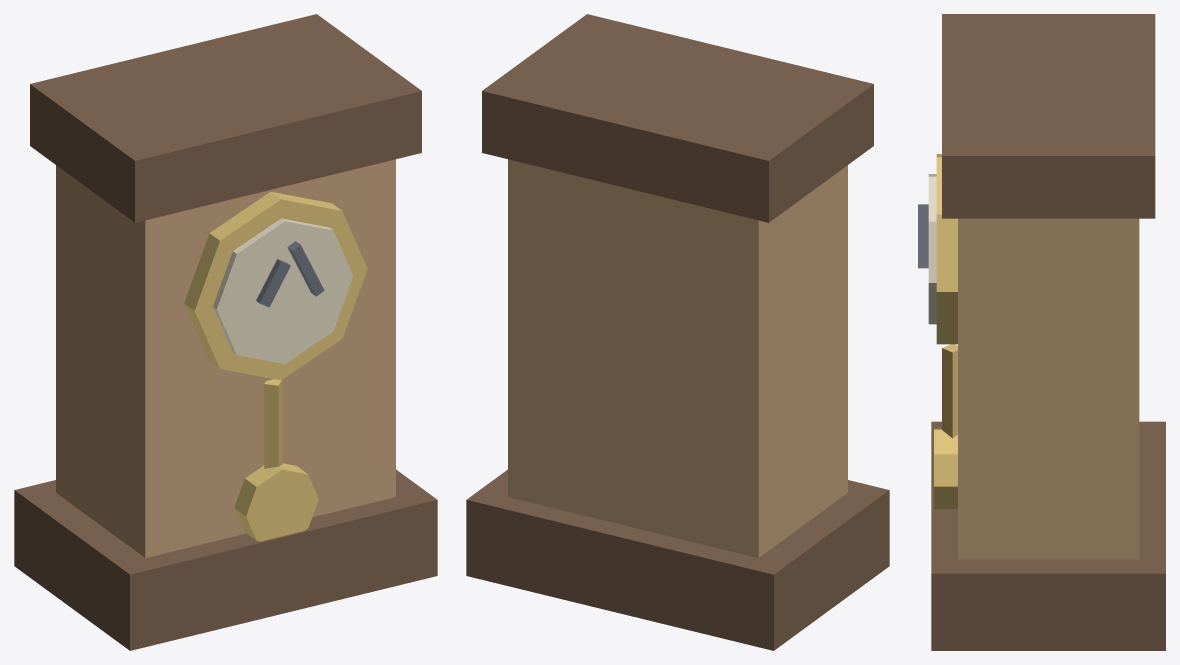
Rendered from LP_Item_V03.fbx.
The picture shows the model from 3 angles, left to right: view 1: azimuth 30°, elevation 25°; view 2: azimuth 150°, elevation 25°; view 3: azimuth 270°, elevation 25°; orthographic projection.
Visible parts, largest first — view 1: ArtifactMesh; view 2: ArtifactMesh; view 3: ArtifactMesh.
Part boxes in pixels (bbox=[...]): ArtifactMesh: bbox=[14, 14, 437, 650]; ArtifactMesh: bbox=[466, 14, 889, 650]; ArtifactMesh: bbox=[918, 14, 1165, 650].
Bounding box in the file's own units: 0.135 × 0.203 × 0.093.
